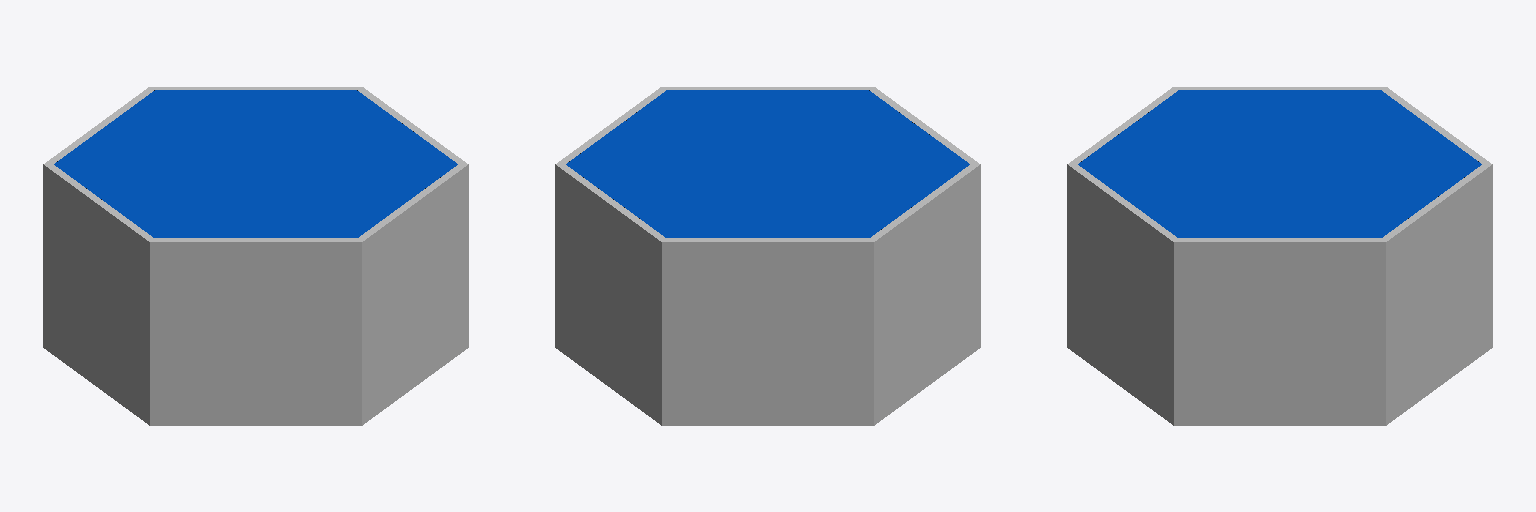
The model's file is Hexagon2.obj.
3 renders of one model, left to right at view 1: azimuth 30°, elevation 25°; view 2: azimuth 150°, elevation 25°; view 3: azimuth 270°, elevation 25°, orthographic.
Parts seen in each view (by area): view 1: Cylinder.001_Cylinder.002; view 2: Cylinder.001_Cylinder.002; view 3: Cylinder.001_Cylinder.002.
Part boxes in pixels (x1,y1,x2,y2): Cylinder.001_Cylinder.002: (43,87,468,425); Cylinder.001_Cylinder.002: (555,87,980,425); Cylinder.001_Cylinder.002: (1067,87,1492,425).
Size of the model in its own units: 1.82 by 1 by 2.1.